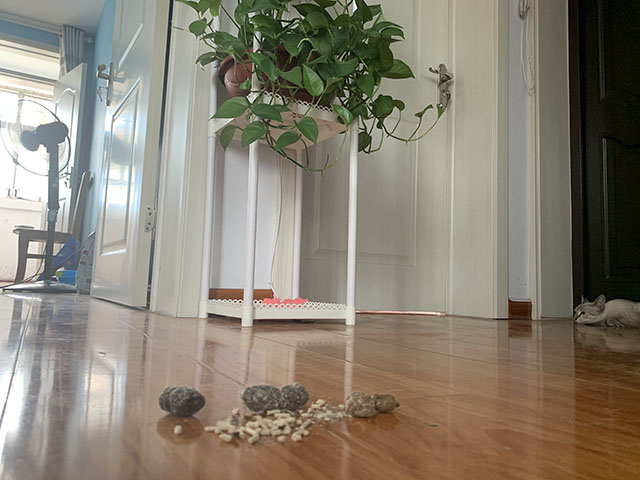feces: (240, 382, 310, 412), (157, 384, 207, 418), (344, 390, 401, 419)
stool: (11, 169, 92, 289)
wire: (1, 204, 85, 289)
